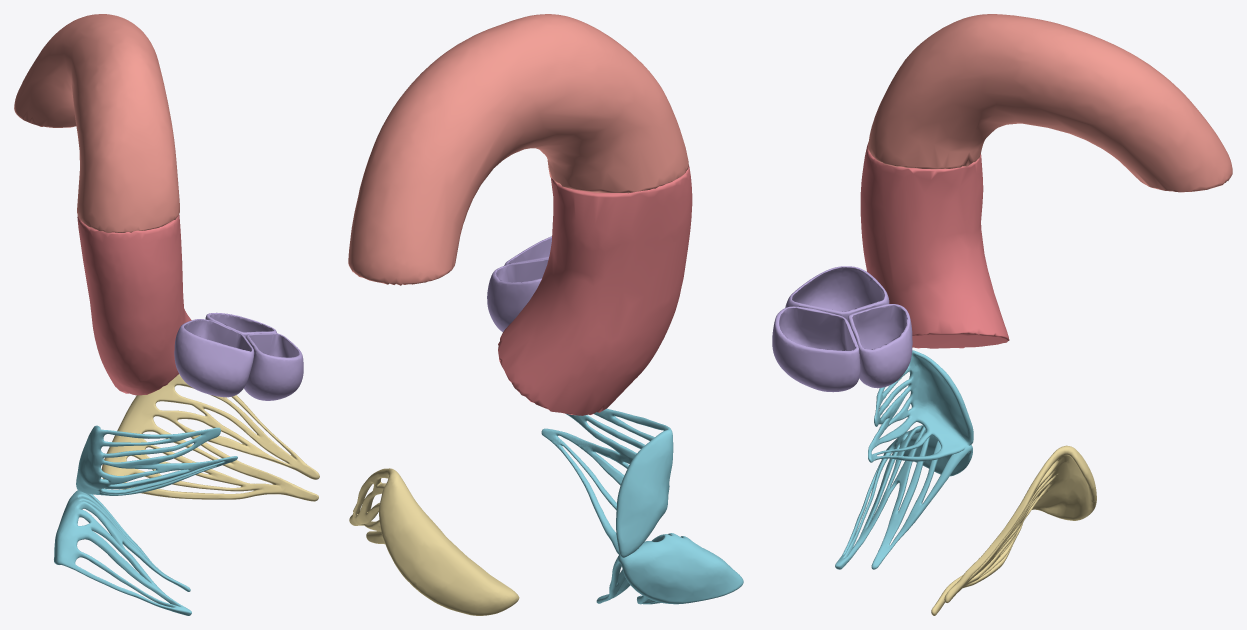
File: bodyparts-cardiac-v1.glb
3 views of the same model, side by side, from view 1: azimuth 30°, elevation 25°; view 2: azimuth 150°, elevation 25°; view 3: azimuth 270°, elevation 25° (orthographic). The views are drawn at different scales.
Parts seen in each view (by area): view 1: Arcus_aortae, Aorta_ascendens, Valva_tricuspidalis, Valva_mitralis, Valva_trunci_pulmonalis; view 2: Arcus_aortae, Aorta_ascendens, Valva_tricuspidalis, Valva_mitralis, Valva_trunci_pulmonalis; view 3: Arcus_aortae, Aorta_ascendens, Valva_trunci_pulmonalis, Valva_tricuspidalis, Valva_mitralis.
Part boxes in pixels (<box>): Arcus_aortae: <box>14,14,179,232</box>; Aorta_ascendens: <box>77,214,191,395</box>; Valva_tricuspidalis: <box>54,425,237,615</box>; Valva_mitralis: <box>101,374,319,501</box>; Valva_trunci_pulmonalis: <box>174,312,303,400</box>; Arcus_aortae: <box>348,14,688,285</box>; Aorta_ascendens: <box>498,166,692,415</box>; Valva_tricuspidalis: <box>541,408,743,604</box>; Valva_mitralis: <box>349,468,519,615</box>; Valva_trunci_pulmonalis: <box>487,236,551,331</box>; Arcus_aortae: <box>868,14,1232,192</box>; Aorta_ascendens: <box>860,142,1009,348</box>; Valva_trunci_pulmonalis: <box>772,266,912,392</box>; Valva_tricuspidalis: <box>835,350,973,569</box>; Valva_mitralis: <box>931,445,1096,615</box>.
Bounding box in the file's own units: 1.05 × 1.8 × 1.35.
